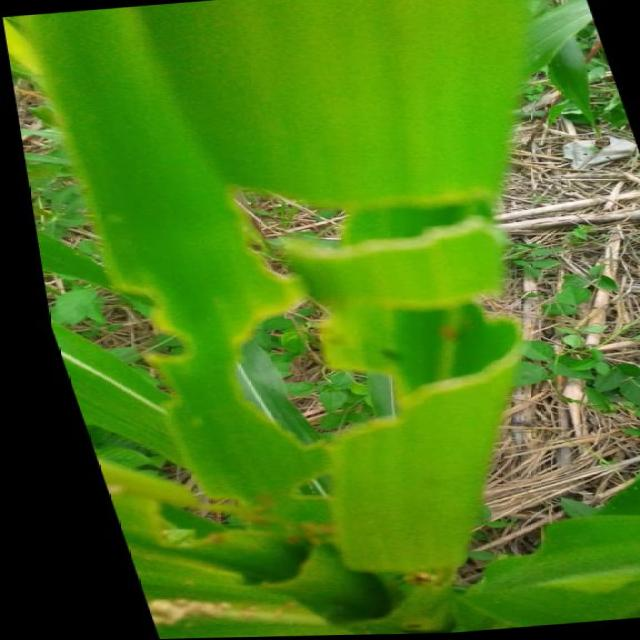fall-armyworm-egg: (196, 498, 357, 560)
fall-armyworm-larval-damage: (147, 159, 569, 464), (83, 454, 357, 603), (59, 267, 192, 382)
